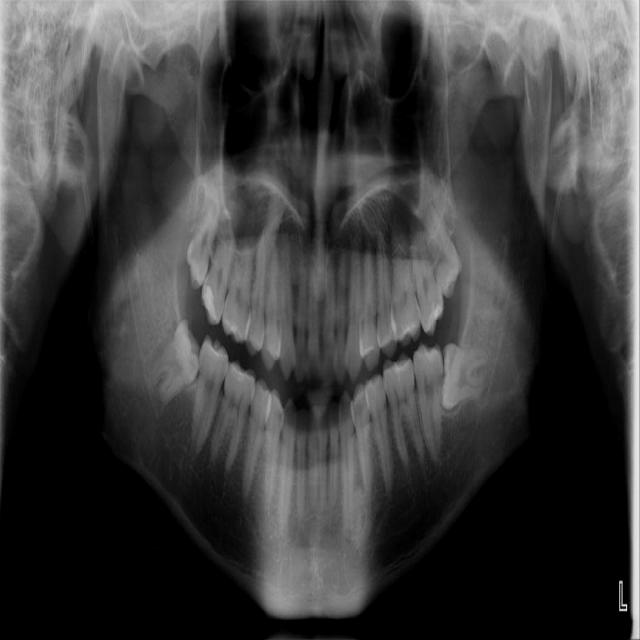Filling: (201, 283, 222, 322)
impacted tooth: (145, 321, 201, 418), (441, 342, 497, 408)
